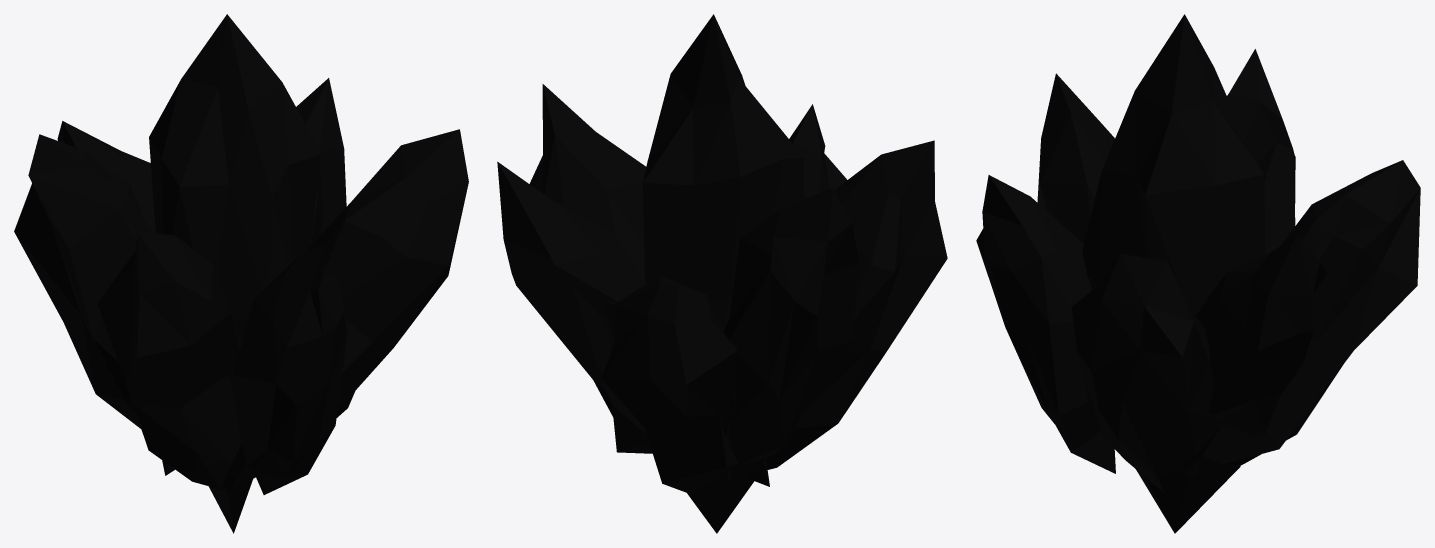
File: Crystal.fbx
The picture shows the model from 3 angles, left to right: view 1: azimuth 30°, elevation 25°; view 2: azimuth 150°, elevation 25°; view 3: azimuth 270°, elevation 25°; orthographic projection.
Parts seen in each view (by area): view 1: node_id5; view 2: node_id5; view 3: node_id5.
Boxes of the visible parts, x1=… form: node_id5: x1=14, y1=14, x2=468, y2=533; node_id5: x1=497, y1=14, x2=947, y2=533; node_id5: x1=976, y1=14, x2=1420, y2=533.
Bounding box in the file's own units: 0.3821 × 0.5119 × 0.3973.
1 material, 1 textured.
